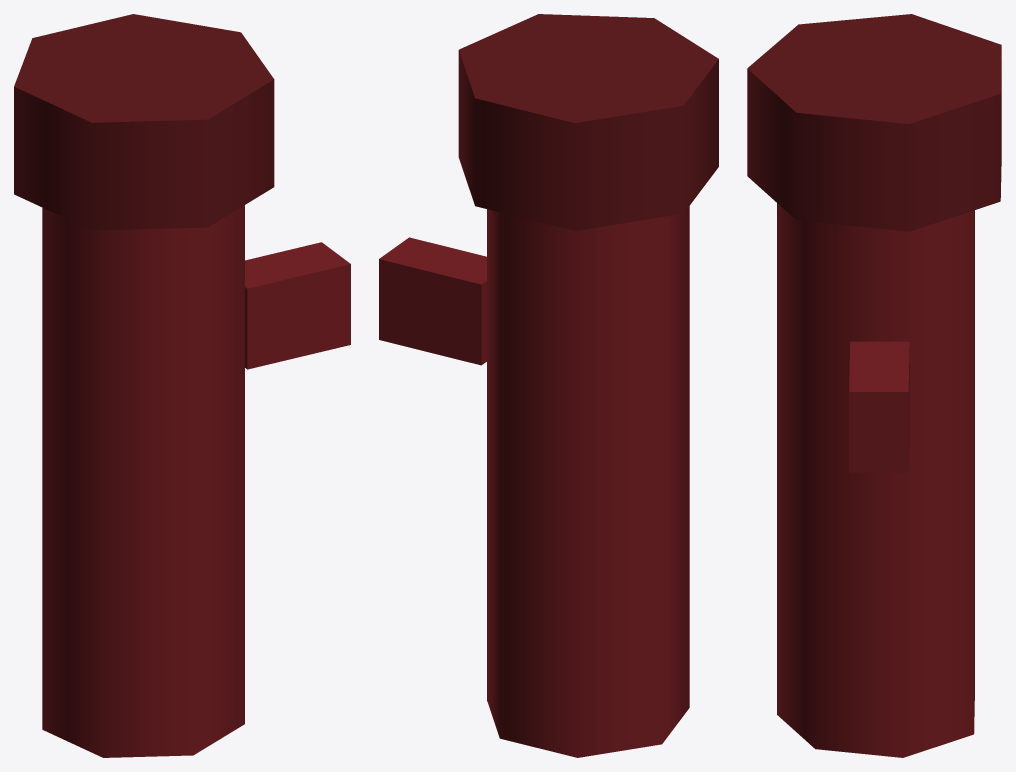
Rendered from cell--225_270.glb.
3 views of the same model, side by side, from view 1: azimuth 30°, elevation 25°; view 2: azimuth 150°, elevation 25°; view 3: azimuth 270°, elevation 25° (orthographic).
Visible parts, largest first — view 1: cell--225_270; view 2: cell--225_270; view 3: cell--225_270.
Part boxes in pixels (x1,y1,x2,y2): cell--225_270: [14, 14, 350, 757]; cell--225_270: [379, 14, 718, 757]; cell--225_270: [747, 14, 1001, 757].
Size of the model in its own units: 0.2377 by 0.48 by 0.1714.
